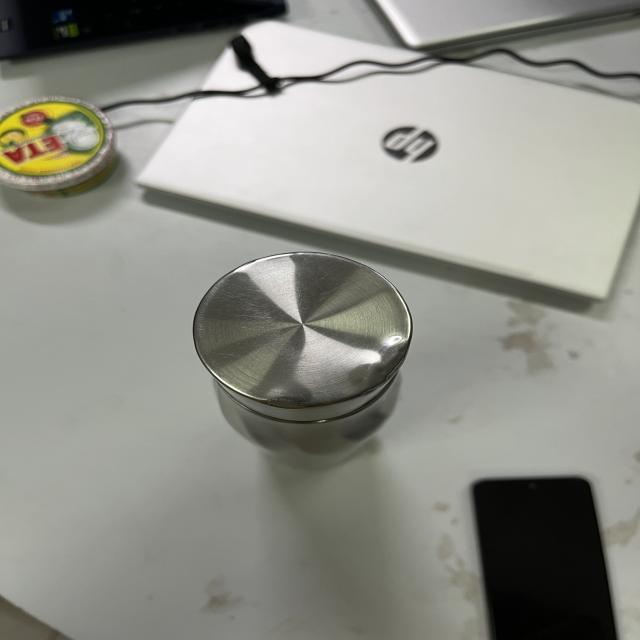L3: (155, 244, 423, 446)
